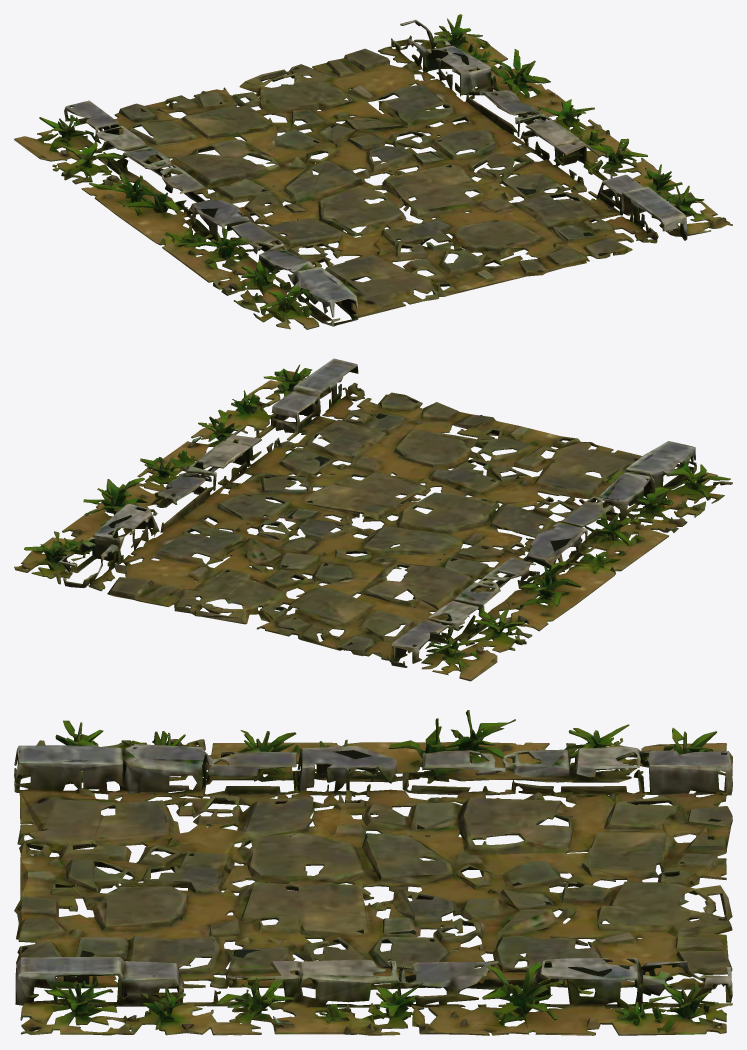
File: roadTile1WithMesh_00001_.glb
The picture shows the model from 3 angles, top to bottom: view 1: azimuth 30°, elevation 25°; view 2: azimuth 150°, elevation 25°; view 3: azimuth 270°, elevation 25°; orthographic projection. The views are drawn at different scales.
Visible parts, largest first — view 1: geometry_0; view 2: geometry_0; view 3: geometry_0.
Part boxes in pixels (x1=…): geometry_0: x1=14, y1=14, x2=732, y2=329; geometry_0: x1=14, y1=358, x2=732, y2=681; geometry_0: x1=14, y1=710, x2=732, y2=1035.
Bounding box in the file's own units: 0.9695 × 0.0756 × 0.9991.
Materials: 1 (1 with a texture image).
